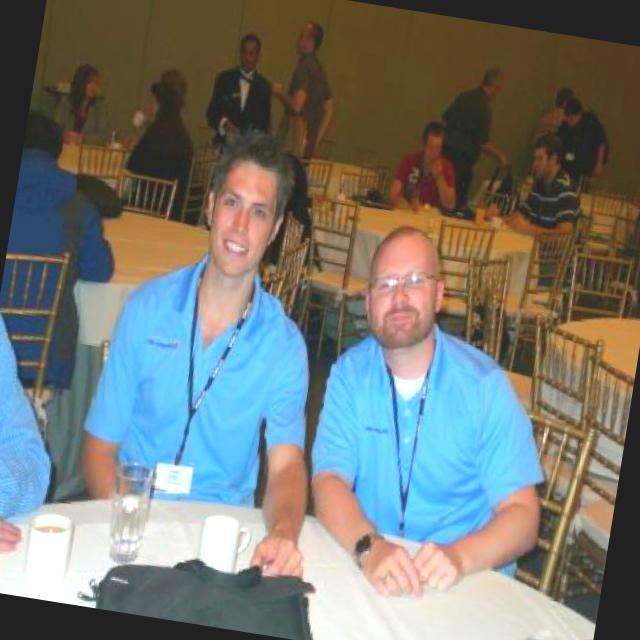Person: (55, 101, 364, 584), (291, 218, 585, 616), (0, 99, 146, 394), (0, 308, 78, 577), (108, 62, 224, 226), (483, 130, 599, 290), (256, 17, 349, 165), (435, 58, 521, 198), (198, 26, 284, 160), (250, 112, 331, 243), (378, 116, 469, 222), (542, 90, 620, 181), (46, 58, 118, 146), (532, 82, 590, 166)
